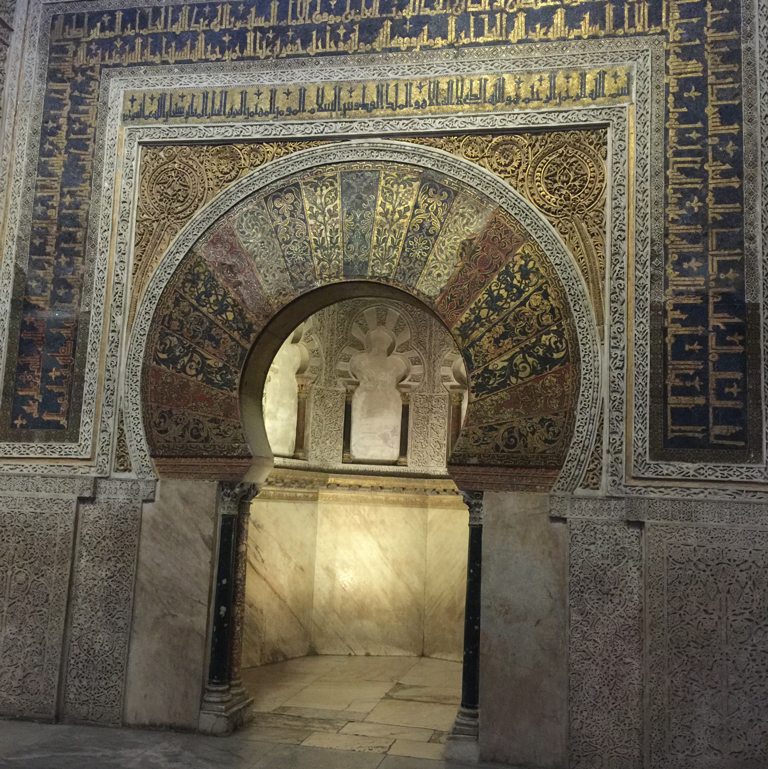arco-herradura: (205, 263, 498, 519)
